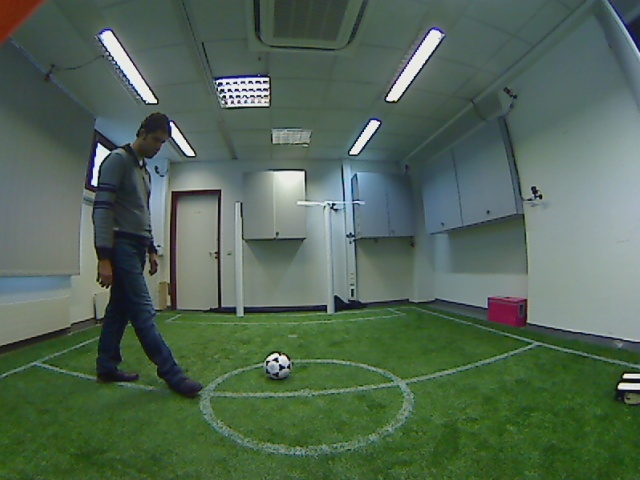ball: (257, 346, 299, 385)
